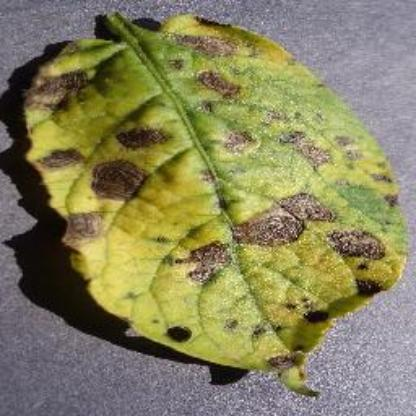Early-Blight: (8, 3, 416, 399)
